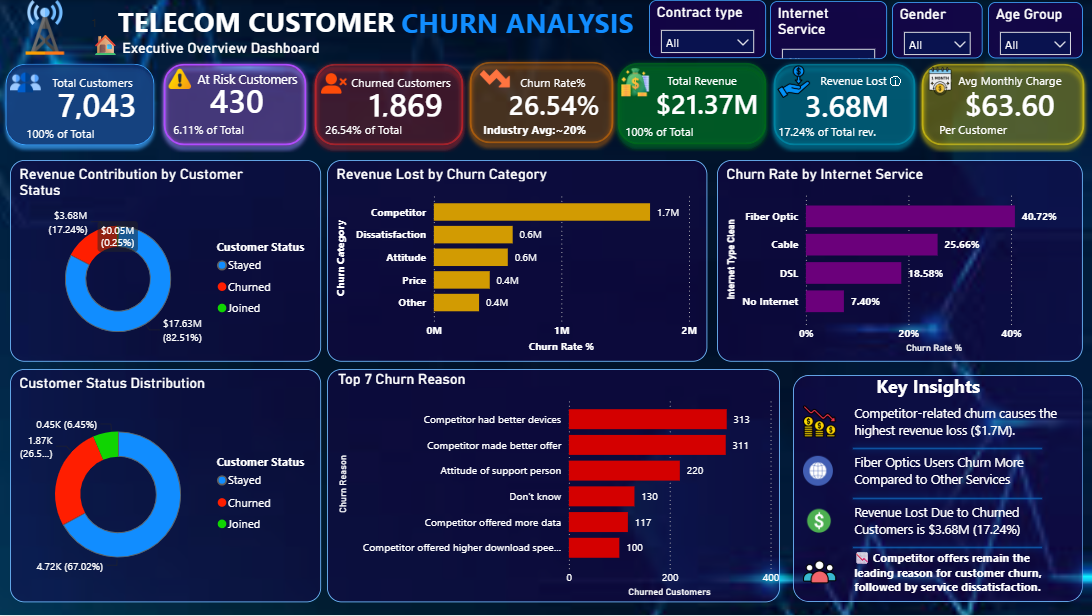

Layout of this report page (visuals, bound fields, positions):
{"tool":"powerbi","page":{"name":"Page 1","canvas":[1280,720],"ordinal":0},"visuals":[{"type":"shape","box":[1071.7,65.5,208.3,113.5],"z":0},{"type":"shape","box":[716.1,64.4,191.9,113.5],"z":1000},{"type":"shape","box":[542.9,63.2,186,113.5],"z":2000},{"type":"shape","box":[361.5,65.5,191.9,113.5],"z":3000},{"type":"shape","box":[0,65.5,191.9,113.5],"z":4000},{"type":"textbox","title":"TELECOM CUSTOMER ","box":[95.9,2.3,413,51.5],"z":5000},{"type":"cardVisual","fields":{"Data":["Count(cleaned_tc_cust_churn.Customer ID)"]},"box":[41,85.4,159.1,71.4],"z":6000},{"type":"cardVisual","title":"Churned Customers","fields":{"Data":["cleaned_tc_cust_churn.Churned Customers"]},"box":[404.8,86.6,148.6,67.9],"z":7000},{"type":"cardVisual","title":"Churn Rate %","fields":{"Data":["cleaned_tc_cust_churn.Churn Rate%"]},"box":[568.6,69,169.7,100.6],"z":8000},{"type":"cardVisual","title":"Total Revenue","fields":{"Data":["cleaned_tc_cust_churn.Total_Revenue"]},"box":[740.6,85.4,201.2,67.9],"z":9000},{"type":"donutChart","title":"Revenue Contribution by Customer Status","fields":{"Category":["cleaned_tc_cust_churn.Customer Status"],"Y":["cleaned_tc_cust_churn.Total_Revenue"]},"box":[14,187.2,363.9,236.3],"z":10000},{"type":"clusteredBarChart","title":"Revenue Lost by Churn Category","fields":{"Y":["cleaned_tc_cust_churn.Revenue Lost"],"Category":["cleaned_tc_cust_churn.Churn Category"]},"box":[384.9,187.2,444.6,236.3],"z":11000},{"type":"clusteredBarChart","title":"Churn Rate  by Internet Service","fields":{"Y":["cleaned_tc_cust_churn.Churn Rate%"],"Category":["cleaned_tc_cust_churn.Internet Type Clean"]},"box":[841.2,187.2,428.2,236.3],"z":12000},{"type":"image","box":[13.8,71.6,36.4,50.3],"z":13000},{"type":"textbox","box":[59.1,82.9,114.3,27.6],"z":14000},{"type":"textbox","box":[28.1,142.7,114.7,28.1],"z":15000},{"type":"shape","box":[184.9,65.5,184.9,113.5],"z":16000},{"type":"cardVisual","fields":{"Data":["cleaned_tc_cust_churn.Customer At Risk"]},"box":[218.8,80.7,150.9,71.4],"z":17000},{"type":"textbox","box":[200.1,138.1,114.7,28.1],"z":18000},{"type":"textbox","title":"At Risk Customers","box":[228.2,81.9,132.2,28.1],"z":19000},{"type":"image","box":[197.7,67.9,30.4,50.3],"z":20000},{"type":"textbox","box":[408.3,83.1,142.7,26.9],"z":21000},{"type":"textbox","box":[377.9,138.1,114.7,28.1],"z":22000},{"type":"image","box":[5.9,0,98.3,64.4],"z":23000},{"type":"textbox","title":"CHURN ANALYSIS ","box":[425.9,3.5,363.9,50.3],"z":24000},{"type":"image","box":[377.9,72.5,30.4,50.3],"z":25000},{"type":"textbox","box":[562.8,138.1,145.1,28.1],"z":26000},{"type":"image","box":[562.8,66.7,37.4,50.3],"z":27000},{"type":"textbox","box":[606.1,83.1,101.8,26.9],"z":28000},{"type":"textbox","box":[778.1,80.7,101.8,26.9],"z":29000},{"type":"textbox","box":[728.9,140.4,113.5,28.1],"z":30000},{"type":"image","box":[728.9,73.7,32.8,45.6],"z":31000},{"type":"shape","box":[898.6,65.5,183.7,113.5],"z":32000},{"type":"cardVisual","title":"Total Revenue","fields":{"Data":["cleaned_tc_cust_churn.Revenue Lost"]},"box":[915,87.8,167.3,67.9],"z":33000},{"type":"textbox","box":[957.1,80.7,114.7,26.9],"z":34000},{"type":"textbox","box":[907.9,140.4,132.2,28.1],"z":35000},{"type":"image","box":[1085.8,72.5,32.8,45.6],"z":36000},{"type":"textbox","box":[1096.3,138.1,132.2,28.1],"z":37000},{"type":"textbox","box":[1118.5,80.7,142.7,26.9],"z":38000},{"type":"image","box":[911.4,72.5,38.6,45.6],"z":39000},{"type":"cardVisual","title":"Total Revenue","fields":{"Data":["cleaned_tc_cust_churn.Average Monthly Charge"]},"box":[1102.2,86.6,167.3,67.9],"z":40000},{"type":"slicer","title":"Contract type","fields":{"Values":["cleaned_tc_cust_churn.Contract"]},"box":[761.7,0,136.9,67.9],"z":41000},{"type":"slicer","title":"Gender","fields":{"Values":["cleaned_tc_cust_churn.gender short"]},"box":[1046,2.3,106.5,65.5],"z":42000},{"type":"slicer","title":"Internet Service","fields":{"Values":["cleaned_tc_cust_churn.Internet Service"]},"box":[903.3,1.2,136.9,67.9],"z":43000},{"type":"donutChart","title":"Customer Status Distribution","fields":{"Category":["cleaned_tc_cust_churn.Customer Status"],"Y":["CountNonNull(cleaned_tc_cust_churn.Customer ID)"]},"box":[14,431.7,363.9,272.6],"z":44000},{"type":"clusteredBarChart","title":"  Top 7 Churn Reason","fields":{"Category":["cleaned_tc_cust_churn.Churn Reason"],"Y":["cleaned_tc_cust_churn.Churned Customers"]},"box":[384.9,431.7,530,272.6],"z":45000},{"type":"shape","box":[930.2,438.8,339.3,265.6],"z":46000},{"type":"textbox","box":[996.9,468,256.2,50.3],"z":47000},{"type":"image","box":[941.9,461,38.6,64.4],"z":48000},{"type":"textbox","box":[1022.6,431.7,162.6,49.1],"z":49000},{"type":"textbox","box":[996.9,525.3,256.2,50.3],"z":50000},{"type":"textbox","box":[996.9,583.8,256.2,50.3],"z":51000},{"type":"textbox","box":[996.9,638.8,264.4,59.7],"z":52000},{"type":"image","box":[941.9,518.3,35.1,64.4],"z":53000},{"type":"image","box":[943,576.8,35.1,64.4],"z":54000},{"type":"shape","box":[992.2,506.6,237.5,36.3],"z":55000},{"type":"shape","box":[992.2,565.1,237.5,36.3],"z":56000},{"type":"shape","box":[992.2,622.4,237.5,36.3],"z":57000},{"type":"image","box":[941.9,634.1,38.6,70.2],"z":58000},{"type":"textbox","title":"Executive Overview Dashboard","box":[140.4,45.6,273.8,28.1],"z":59000},{"type":"slicer","title":"Age Group","fields":{"Values":["cleaned_tc_cust_churn.Age Group"]},"box":[1158.3,2.3,111.2,65.5],"z":60000},{"type":"textbox","box":[104.1,12.9,45.6,67.9],"z":61000}]}

Visuals, with their boxes in screenshot pixels (x1, y1, x2, y2), scaled from the page's 1280x720 canvas onto the 1092x616 screenshot:
shape: bbox=[914, 56, 1091, 153]
shape: bbox=[611, 55, 775, 152]
shape: bbox=[463, 54, 622, 151]
shape: bbox=[308, 56, 472, 153]
shape: bbox=[0, 56, 164, 153]
"TELECOM CUSTOMER " textbox: bbox=[82, 2, 434, 46]
cardVisual - Count(cleaned_tc_cust_churn.Customer ID): bbox=[35, 73, 171, 134]
"Churned Customers" cardVisual: bbox=[345, 74, 472, 132]
"Churn Rate %" cardVisual: bbox=[485, 59, 630, 145]
"Total Revenue" cardVisual: bbox=[632, 73, 803, 131]
"Revenue Contribution by Customer Status" donutChart: bbox=[12, 160, 322, 362]
"Revenue Lost by Churn Category" clusteredBarChart: bbox=[328, 160, 708, 362]
"Churn Rate  by Internet Service" clusteredBarChart: bbox=[718, 160, 1083, 362]
image: bbox=[12, 61, 43, 104]
textbox: bbox=[50, 71, 148, 95]
textbox: bbox=[24, 122, 122, 146]
shape: bbox=[158, 56, 315, 153]
cardVisual - cleaned_tc_cust_churn.Customer At Risk: bbox=[187, 69, 315, 130]
textbox: bbox=[171, 118, 269, 142]
"At Risk Customers" textbox: bbox=[195, 70, 307, 94]
image: bbox=[169, 58, 195, 101]
textbox: bbox=[348, 71, 470, 94]
textbox: bbox=[322, 118, 420, 142]
image: bbox=[5, 0, 89, 55]
"CHURN ANALYSIS " textbox: bbox=[363, 3, 674, 46]
image: bbox=[322, 62, 348, 105]
textbox: bbox=[480, 118, 604, 142]
image: bbox=[480, 57, 512, 100]
textbox: bbox=[517, 71, 604, 94]
textbox: bbox=[664, 69, 751, 92]
textbox: bbox=[622, 120, 719, 144]
image: bbox=[622, 63, 650, 102]
shape: bbox=[767, 56, 923, 153]
"Total Revenue" cardVisual: bbox=[781, 75, 923, 133]
textbox: bbox=[817, 69, 914, 92]
textbox: bbox=[775, 120, 887, 144]
image: bbox=[926, 62, 954, 101]
textbox: bbox=[935, 118, 1048, 142]
textbox: bbox=[954, 69, 1076, 92]
image: bbox=[778, 62, 810, 101]
"Total Revenue" cardVisual: bbox=[940, 74, 1083, 132]
"Contract type" slicer: bbox=[650, 0, 767, 58]
"Gender" slicer: bbox=[892, 2, 983, 58]
"Internet Service" slicer: bbox=[771, 1, 887, 59]
"Customer Status Distribution" donutChart: bbox=[12, 369, 322, 603]
"  Top 7 Churn Reason" clusteredBarChart: bbox=[328, 369, 781, 603]
shape: bbox=[794, 375, 1083, 603]
textbox: bbox=[850, 400, 1069, 443]
image: bbox=[804, 394, 836, 450]
textbox: bbox=[872, 369, 1011, 411]
textbox: bbox=[850, 449, 1069, 492]
textbox: bbox=[850, 499, 1069, 543]
textbox: bbox=[850, 547, 1076, 598]
image: bbox=[804, 443, 834, 499]
image: bbox=[804, 493, 834, 549]
shape: bbox=[846, 433, 1049, 464]
shape: bbox=[846, 483, 1049, 515]
shape: bbox=[846, 532, 1049, 564]
image: bbox=[804, 543, 836, 603]
"Executive Overview Dashboard" textbox: bbox=[120, 39, 353, 63]
"Age Group" slicer: bbox=[988, 2, 1083, 58]
textbox: bbox=[89, 11, 128, 69]
